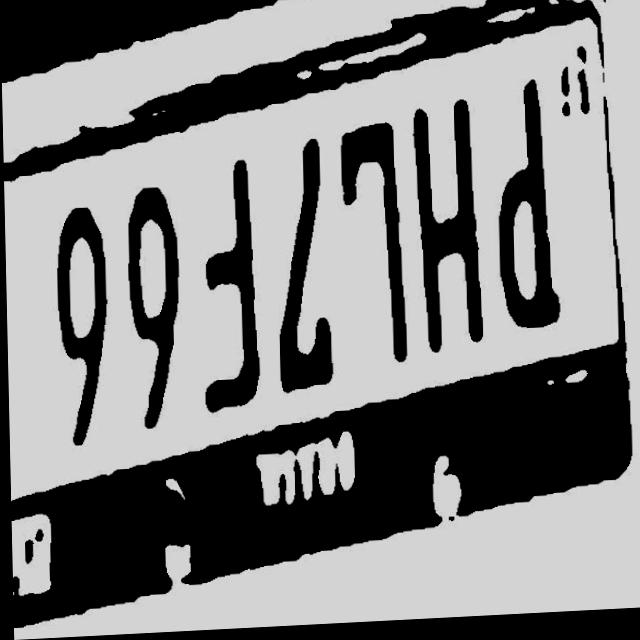6: (49, 205, 113, 448), (121, 189, 182, 434)
7: (270, 141, 336, 400)
f: (194, 160, 263, 416)
h: (411, 99, 482, 361)
l: (338, 123, 407, 376)
p: (493, 79, 561, 339)
